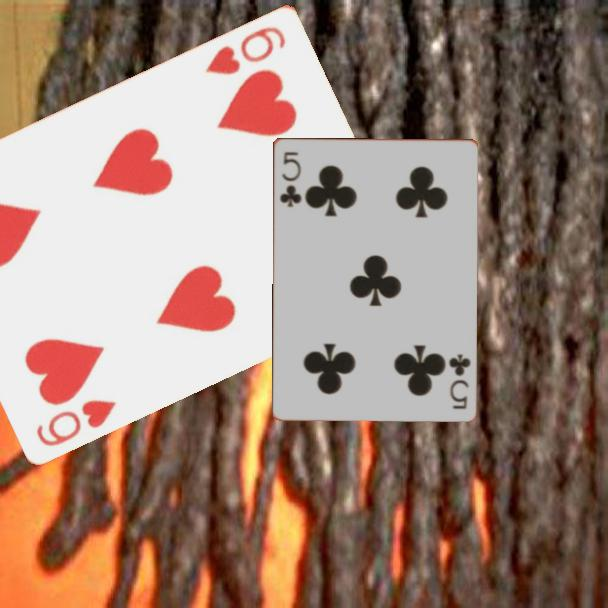c05: (445, 350, 473, 412), (276, 148, 304, 209)
h06: (202, 22, 289, 78), (32, 395, 120, 449)
